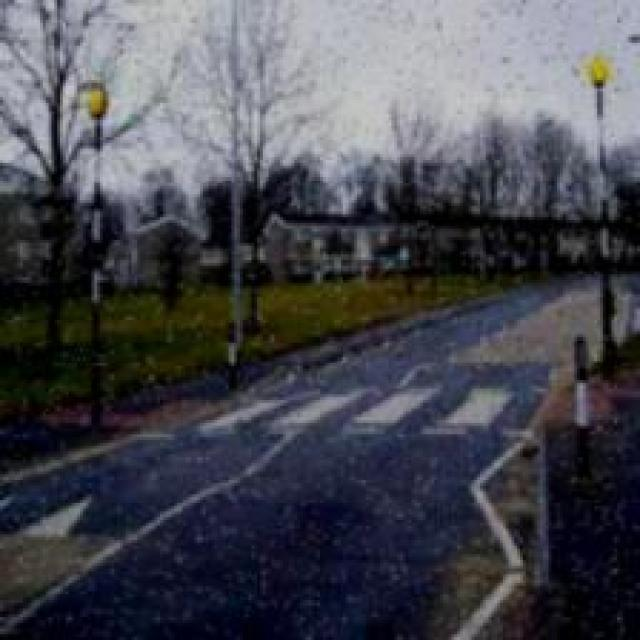crosswalk: (163, 386, 524, 433)
